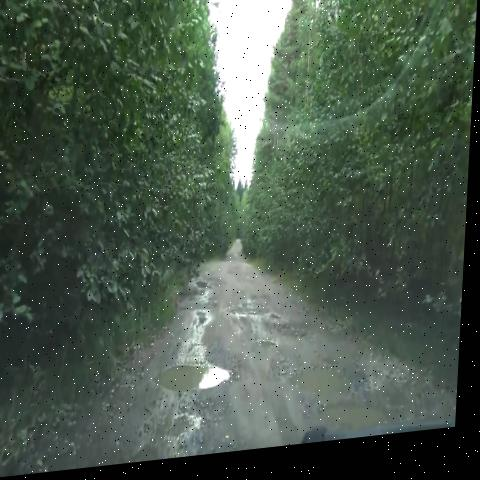pothole: (149, 343, 244, 417), (277, 350, 373, 415), (313, 400, 415, 450), (223, 289, 285, 336), (280, 327, 322, 355), (191, 277, 225, 306), (258, 331, 281, 369)
